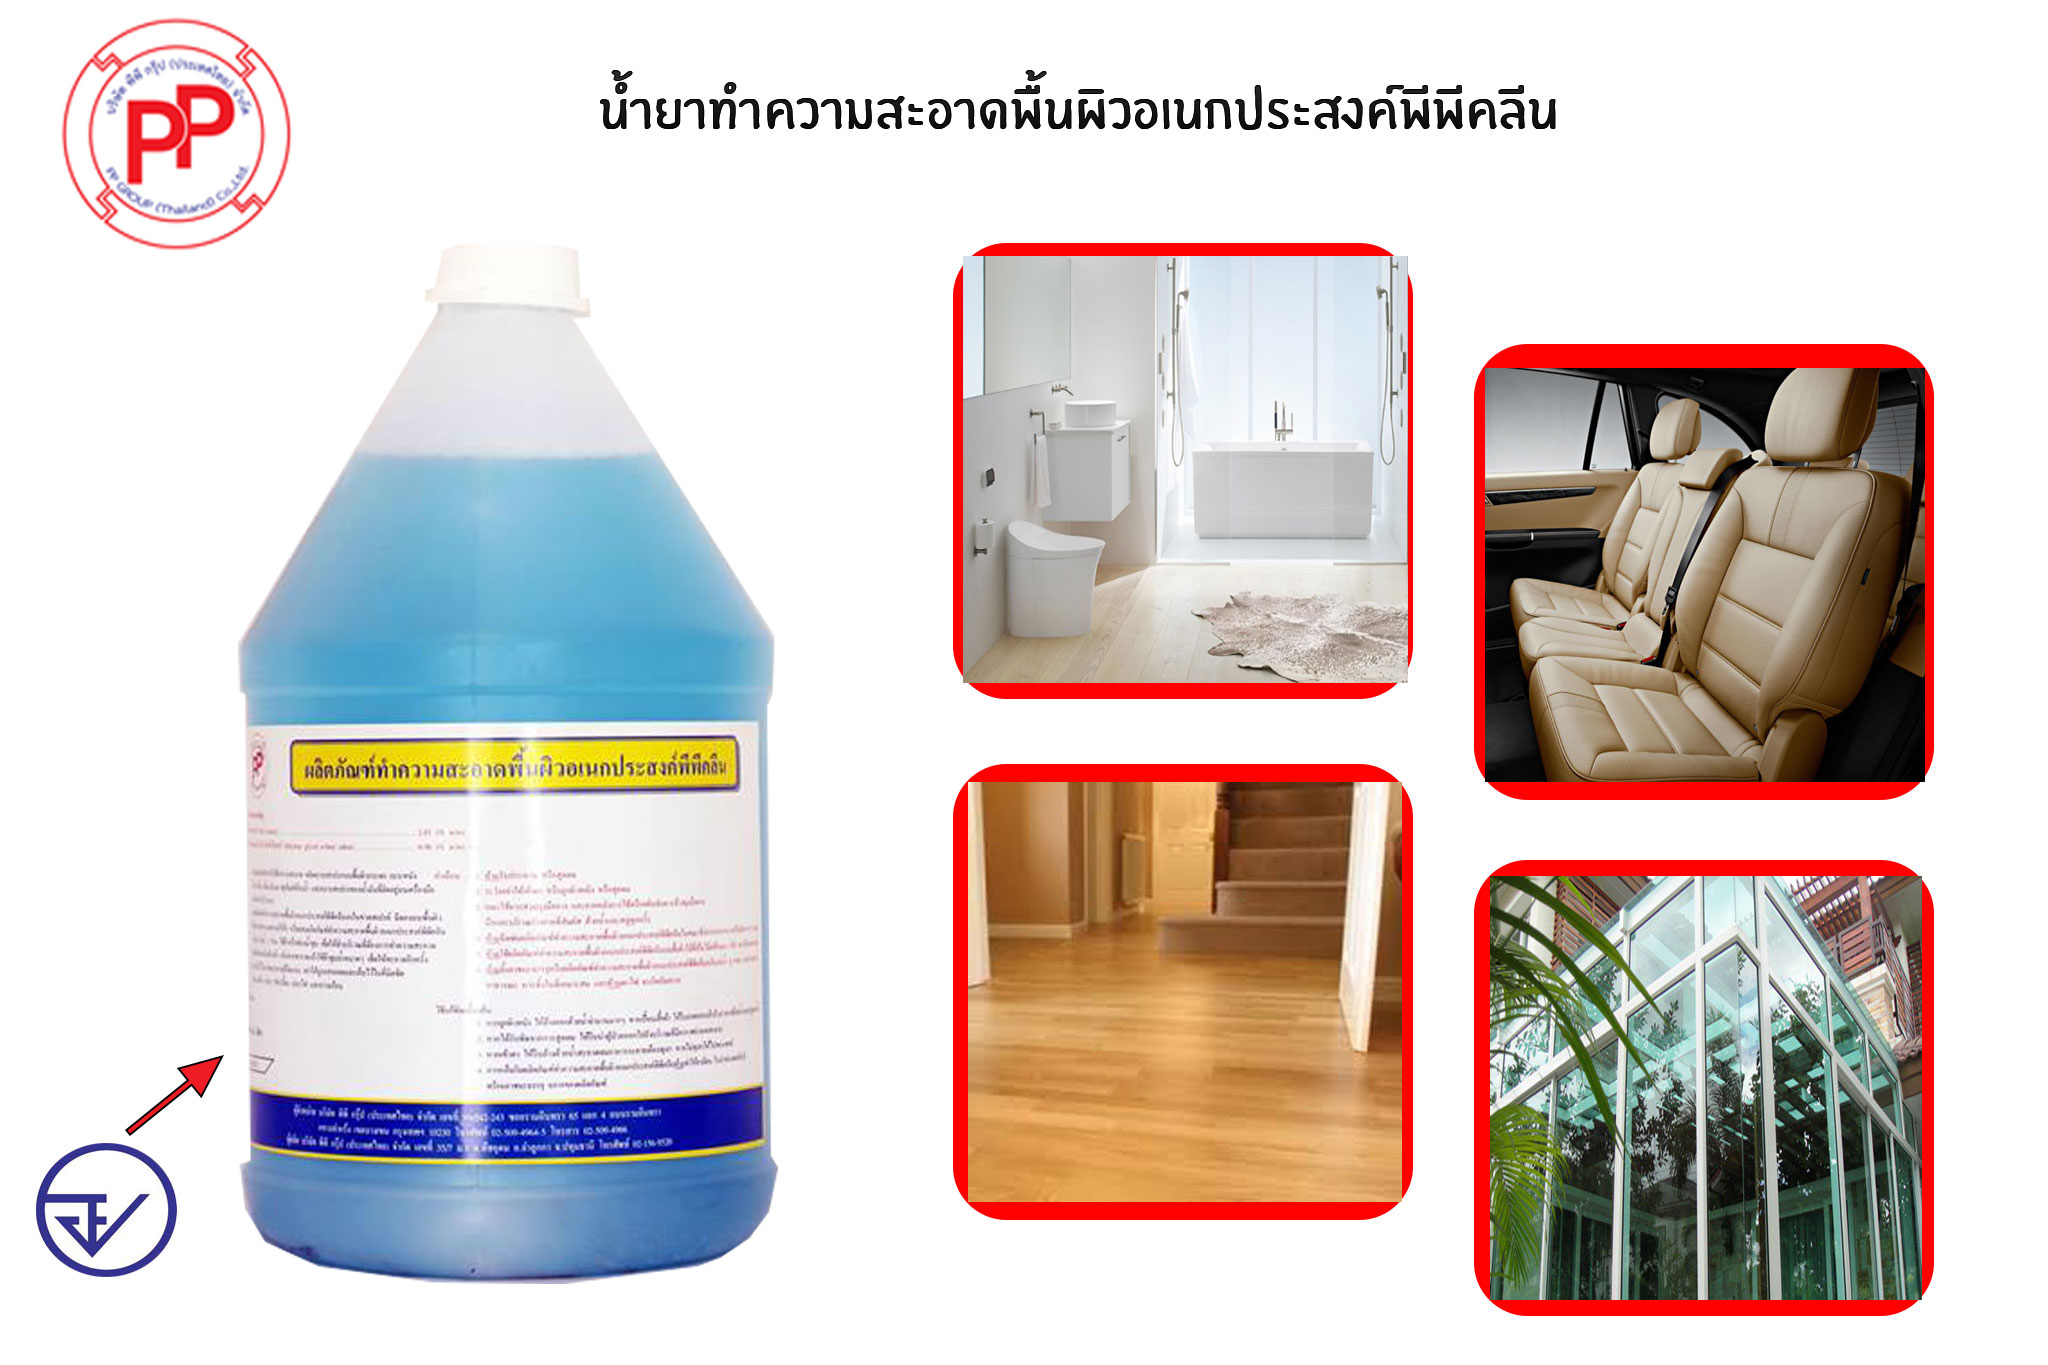Cleaning_solution: (230, 222, 784, 1299)
